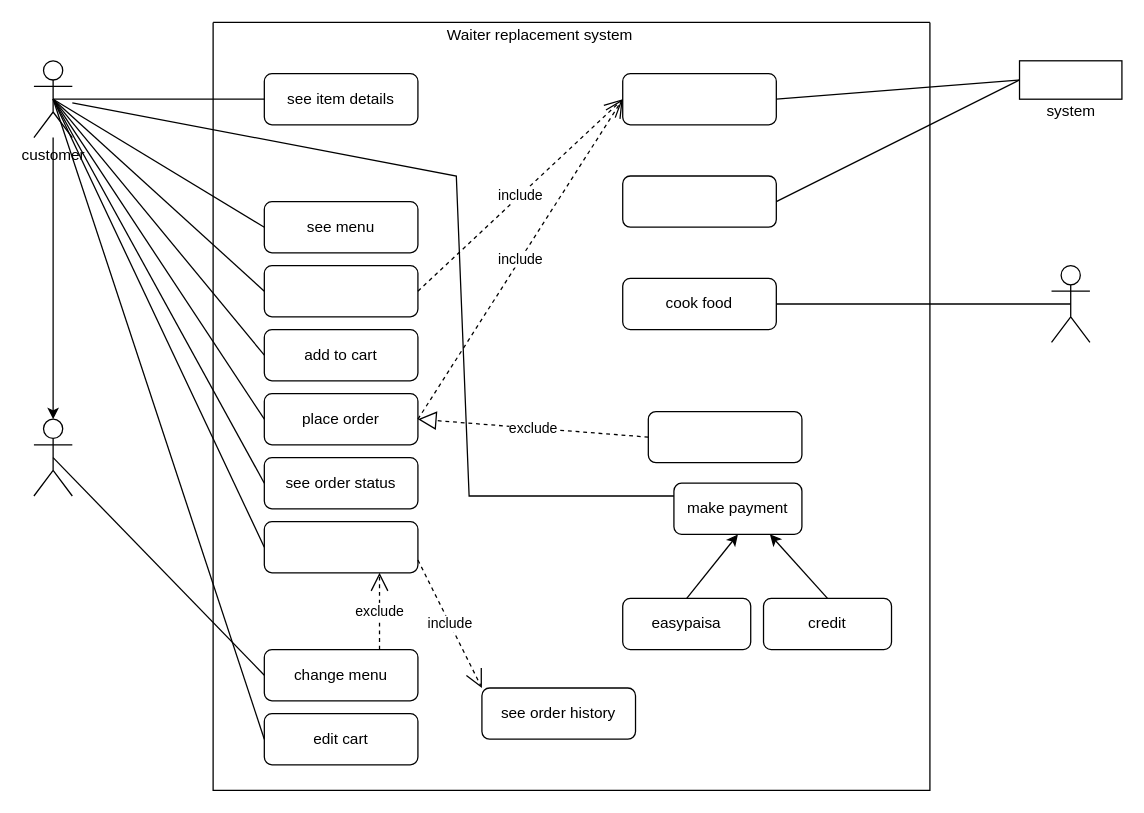
Some shapes in this 1144 by 813 pixel diagram are drawn without their labels. The shapes that lost their labels are listed below. From the top down, each one's box as (x1, y1, x2, y2) in pixels, then its label:
(621, 72, 776, 125): show price of order amount
(621, 175, 776, 227): assign chef
(263, 264, 418, 317): change amount to order
(1050, 264, 1090, 342): chef
(647, 410, 802, 463): use promo code
(33, 418, 72, 496): manager
(263, 520, 418, 573): login
